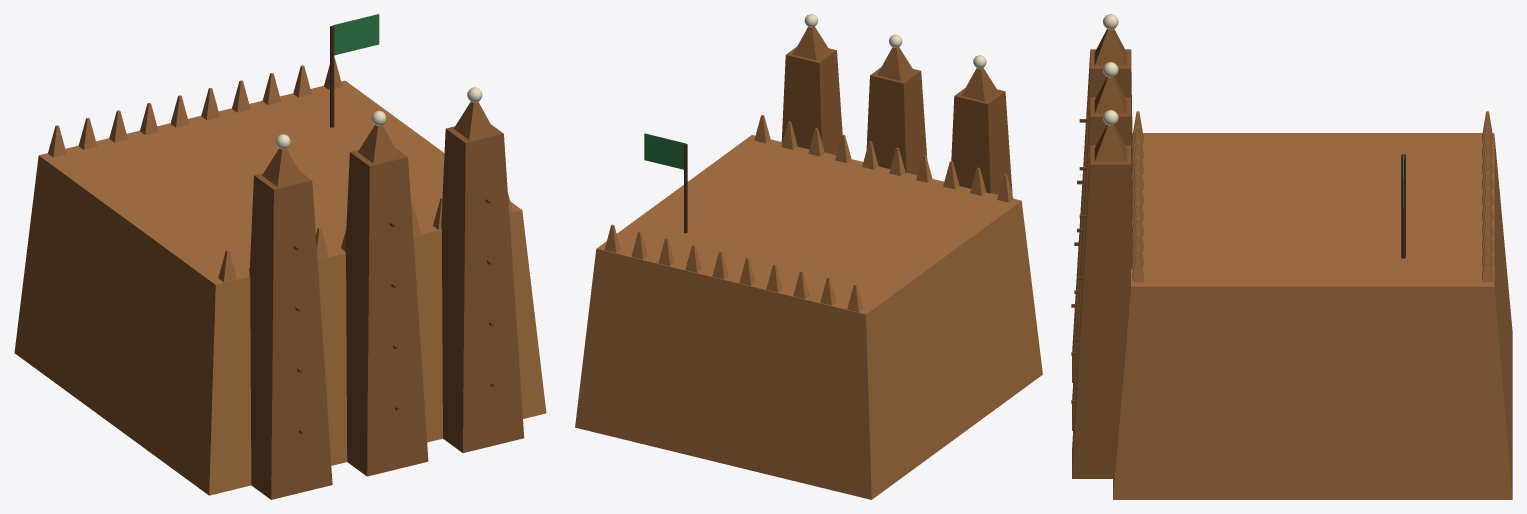
The model's file is keep.glb.
The picture shows the model from 3 angles, left to right: view 1: azimuth 30°, elevation 25°; view 2: azimuth 150°, elevation 25°; view 3: azimuth 270°, elevation 25°; orthographic projection. The views are drawn at different scales.
Visible parts, largest first — view 1: Keep; view 2: Keep; view 3: Keep.
Boxes of the visible parts, x1,y1,x2,y2 form: Keep: [14, 14, 546, 499]; Keep: [575, 14, 1042, 499]; Keep: [1071, 14, 1512, 499].
Bounding box in the file's own units: 17.6 × 17.15 × 19.43.
